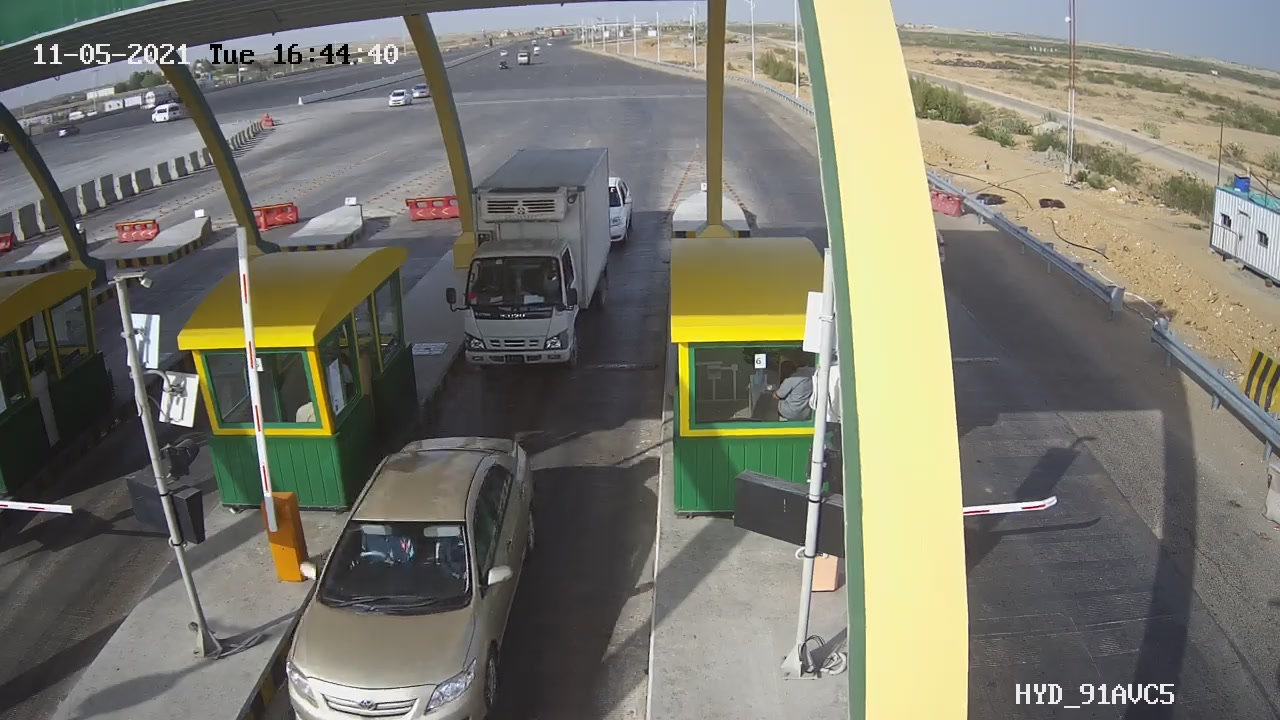F5: (427, 132, 619, 389)
